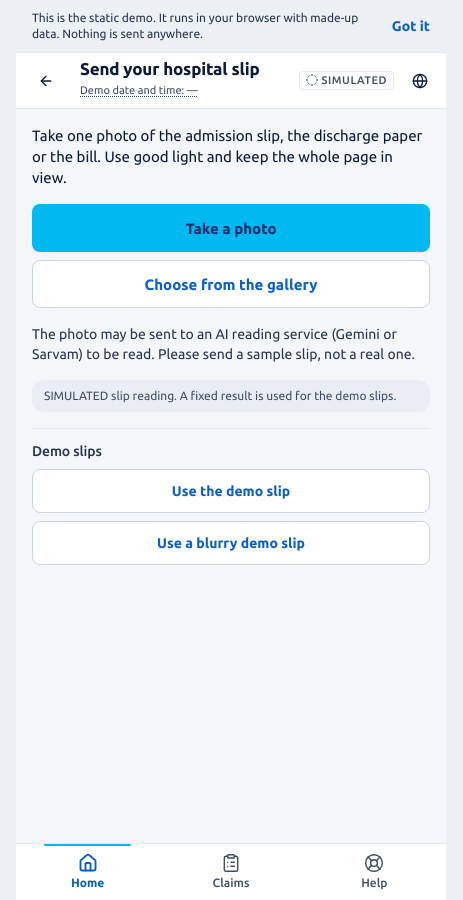
Test: reading, errors and offline › shows the generic error for a body that breaks the contract
This screenshot has width=463, height=900.
expect the element with test id "screen-slip" is shown: met, box x1=16 y1=109 x2=446 y2=581
Click the button with test id "slip-demo-good" at (231, 491), box x1=32 y1=469 x2=430 y2=513
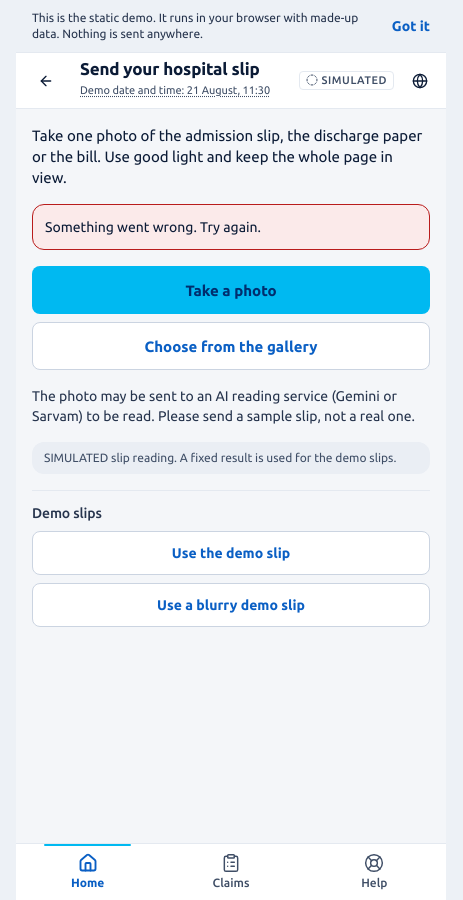
expect the message with test id "slip-error" reads "Something went wrong. Try again.": met, box x1=45 y1=219 x2=261 y2=235
